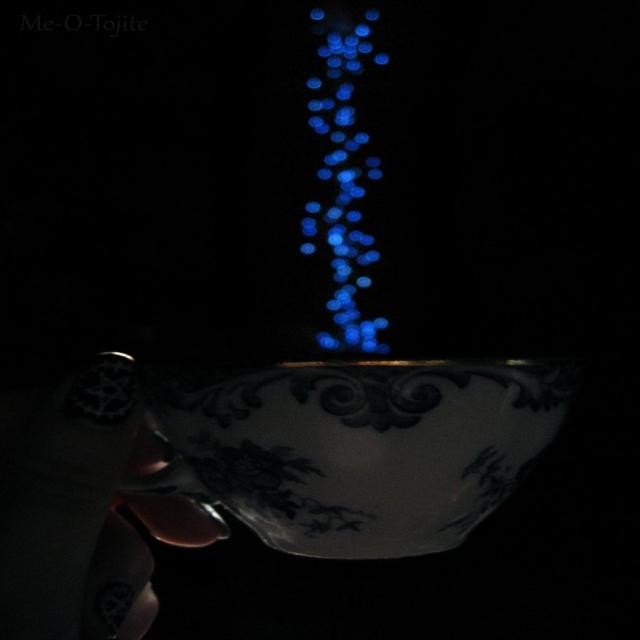Cup: (103, 309, 576, 584)
